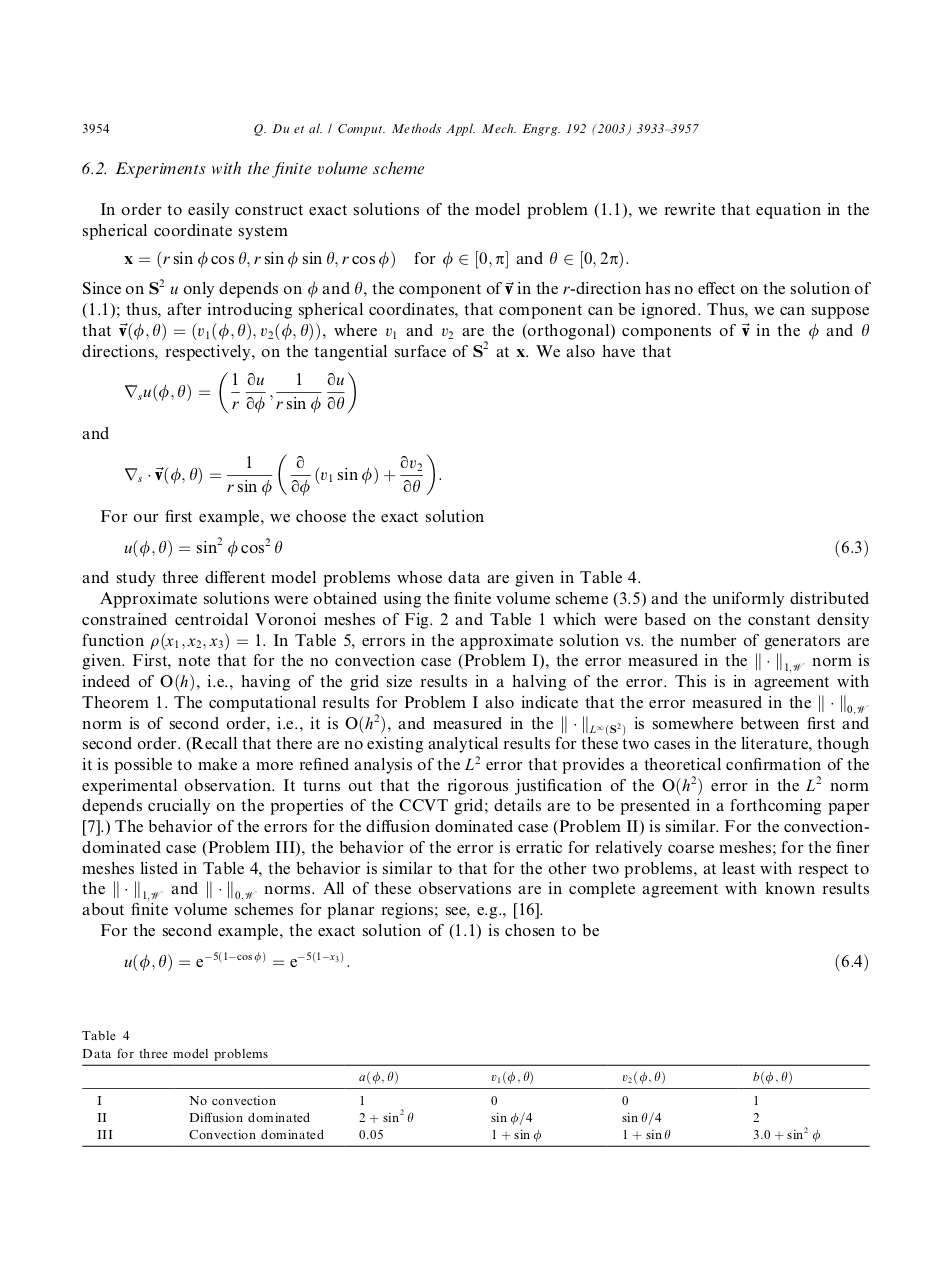Table: (82, 1064, 869, 1146)
formula: (124, 536, 867, 558), (124, 951, 867, 972), (124, 453, 441, 496), (124, 371, 355, 413), (124, 250, 628, 269)
